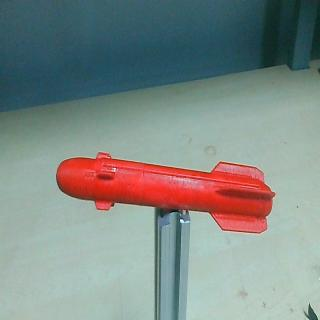Rocket: (57, 152, 276, 235)
